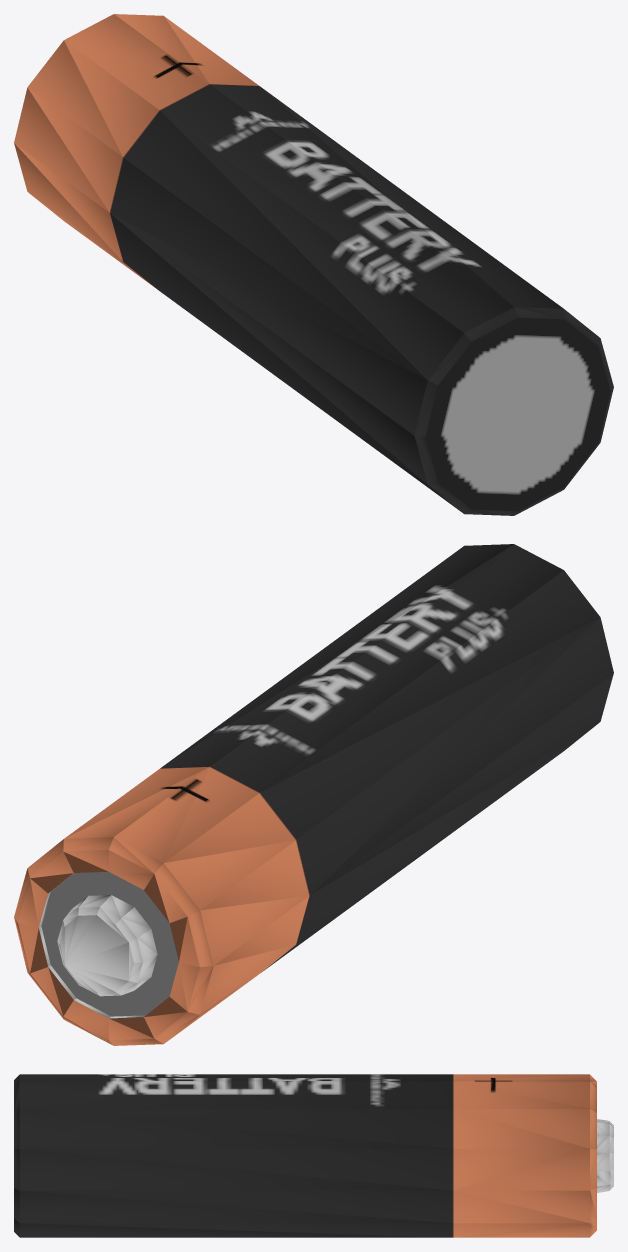
Rendered from battery1.gltf.
3 views of the same model, one above another, from view 1: azimuth 30°, elevation 25°; view 2: azimuth 150°, elevation 25°; view 3: azimuth 270°, elevation 25° (orthographic). The views are drawn at different scales.
Parts seen in each view (by area): view 1: node-0.001; view 2: node-0.001; view 3: node-0.001.
Part boxes in pixels (x1,y1,x2,y2): node-0.001: (14,14,613,515); node-0.001: (14,544,613,1045); node-0.001: (14,1074,613,1237).
Size of the model in its own units: 0.0142 by 0.0142 by 0.0518.
1 material, 1 textured.
